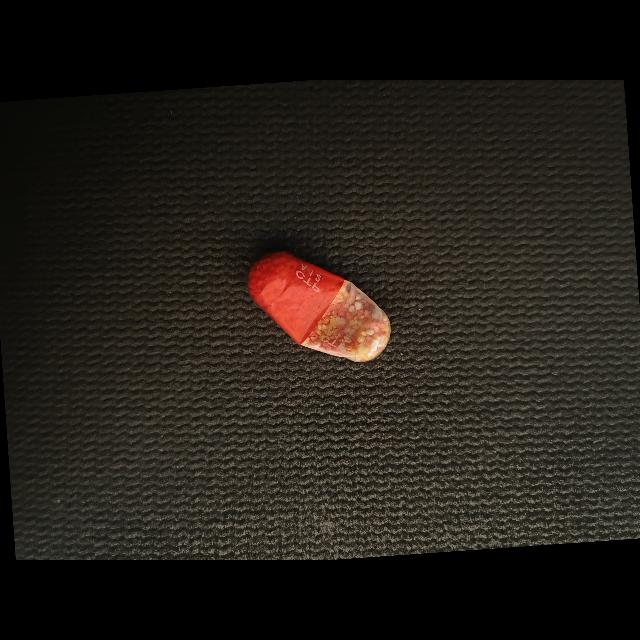Defective Capsule: (247, 252, 391, 362)
